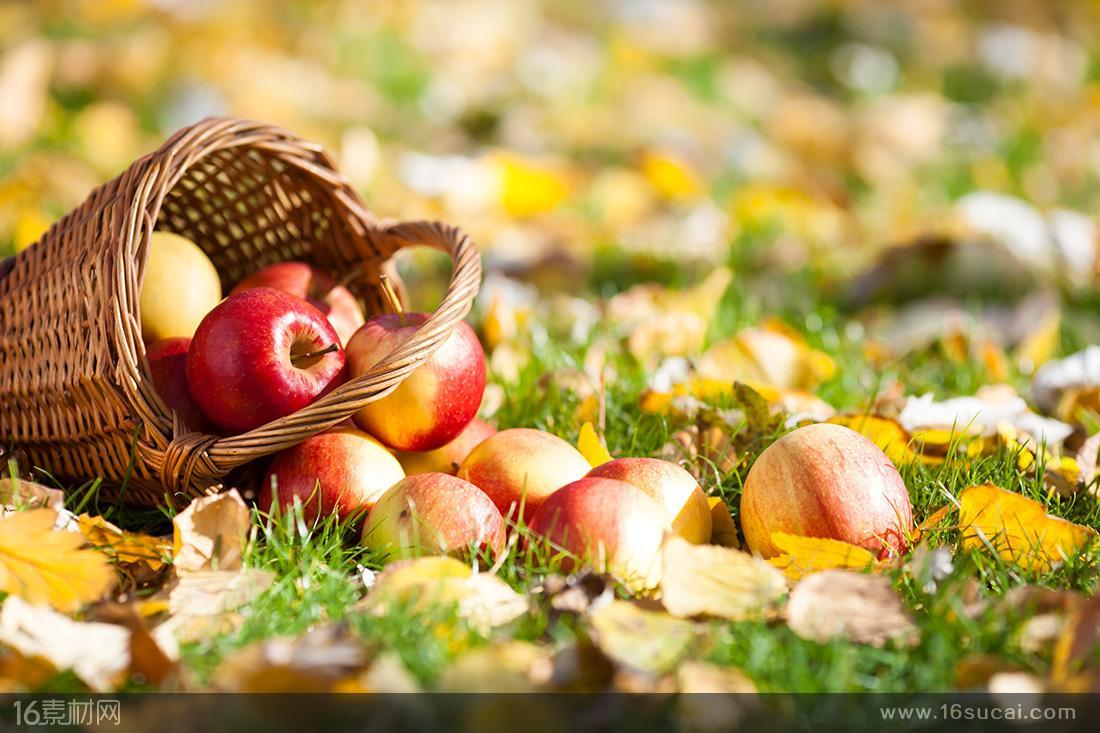apple: (738, 418, 920, 573), (184, 284, 348, 435), (346, 312, 491, 454), (256, 428, 403, 554), (356, 470, 508, 569), (534, 473, 658, 593), (457, 427, 595, 525), (588, 457, 710, 546)
